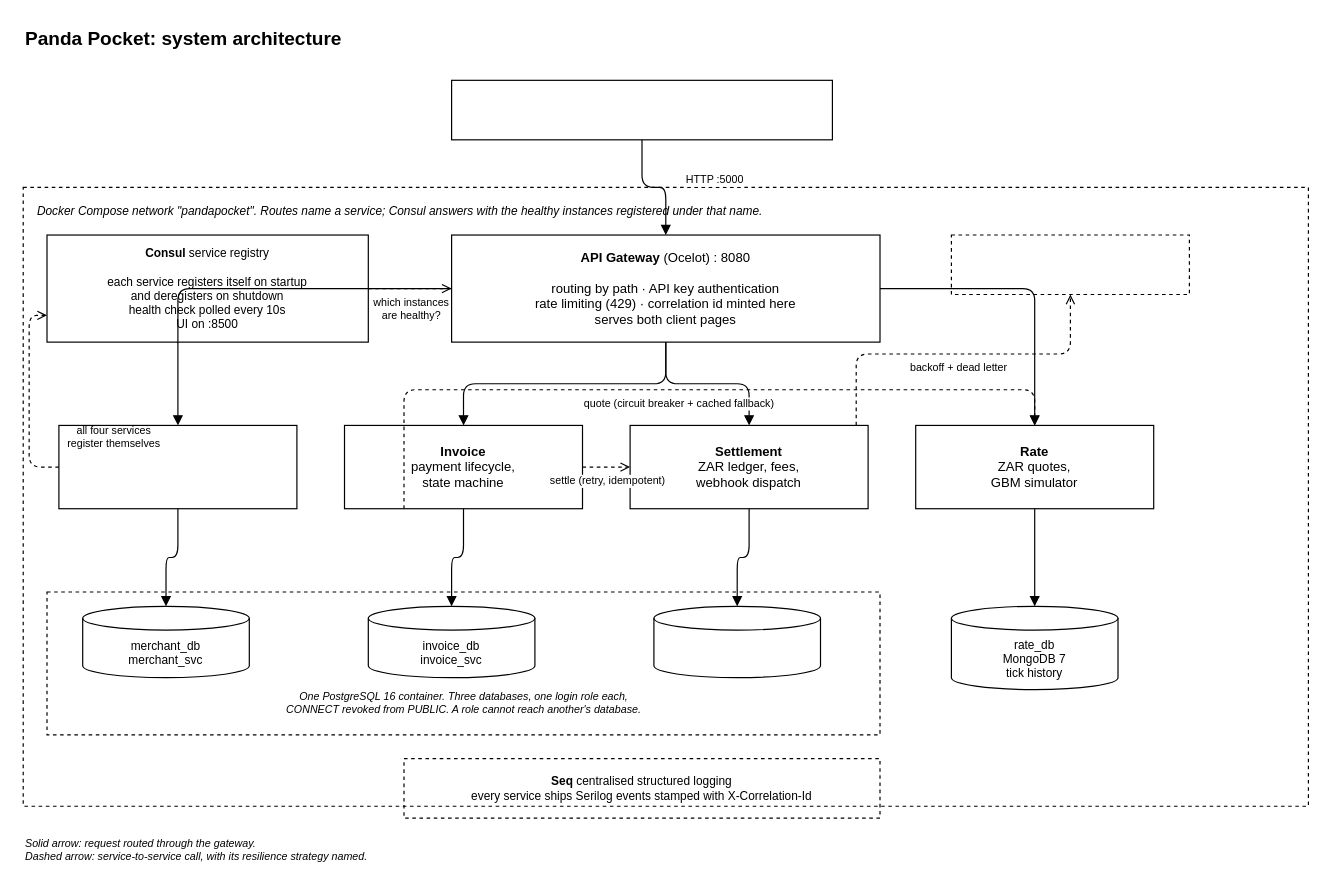
Some shapes in this 1329 by 890 pixel diagram are drawn without their labels. Each missing label, with the box of its shape:
Browser client (plain HTML + fetch, no build step): (450, 79, 832, 140)
Merchant accounts, hashed API keys, JWT: (58, 424, 297, 509)
Merchant's own server (HMAC-signed webhook): (950, 234, 1189, 295)
settlement_db settlement_svc: (653, 605, 821, 678)
